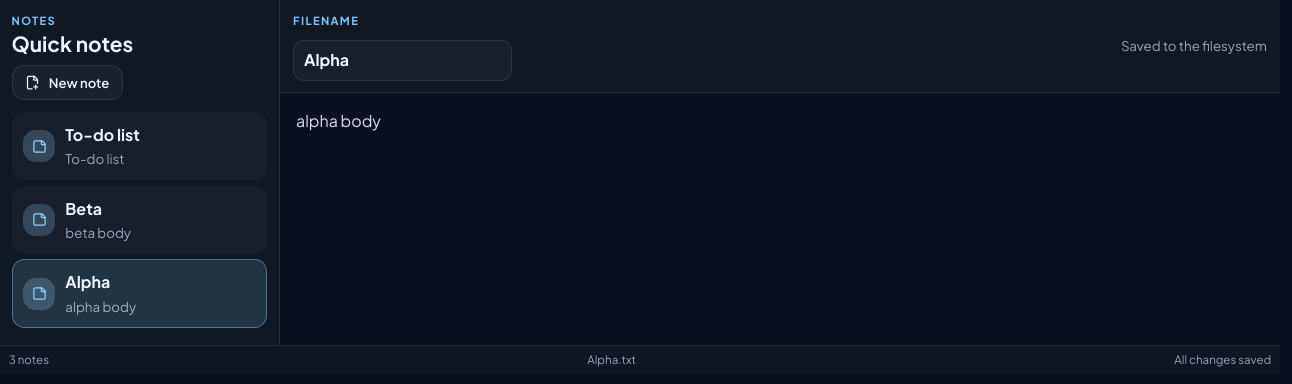
Test: NotesApp › flushes a pending autosave immediately when switching to another note
Replace the text in the text box named "Note editor for Alpha" with "alpha saved on switch" at (780,219), box [280, 93, 1280, 345]
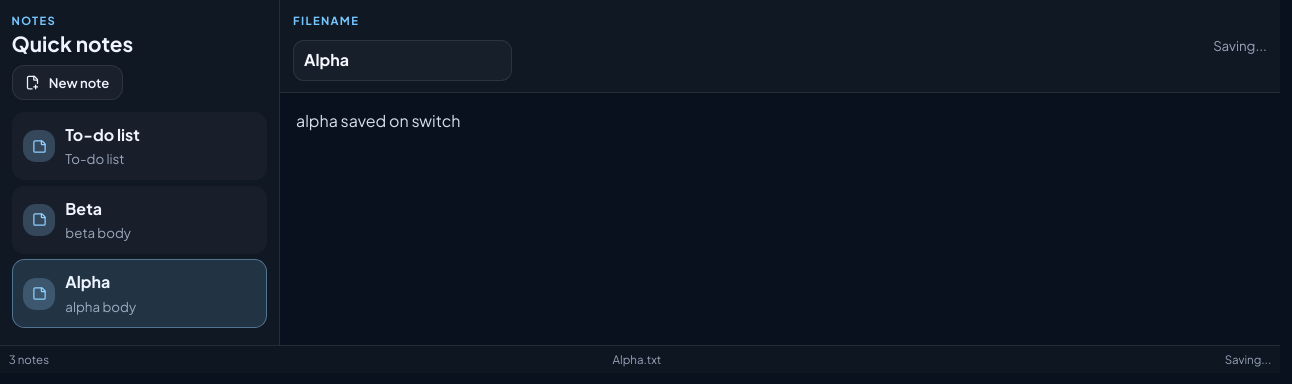
Click the button "Beta beta body" at (139,220), box [12, 186, 267, 254]
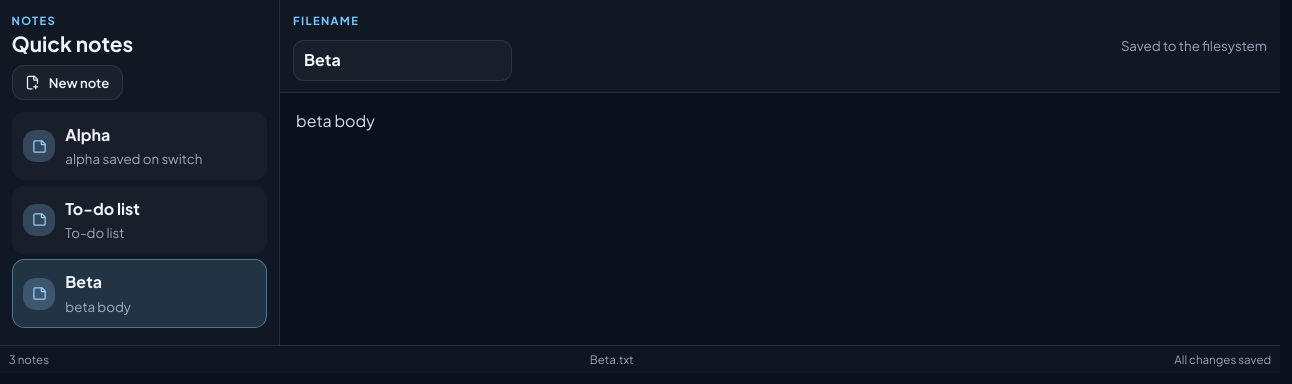
Expected: the field named "Note title" holds "Beta", [293, 40, 512, 81]
